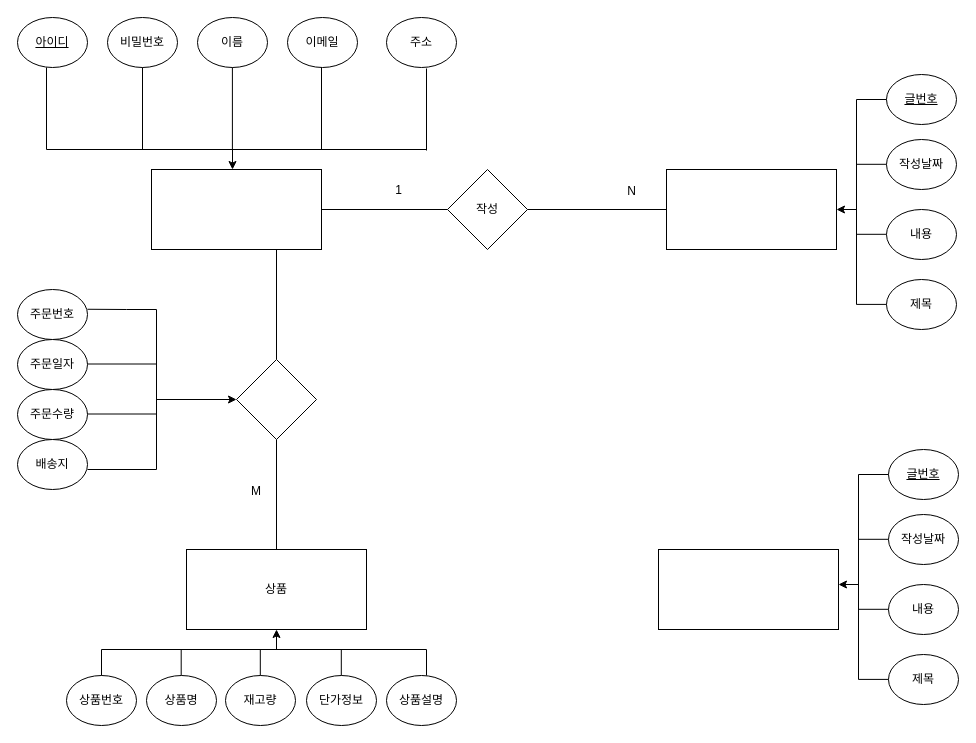
The diagram is 976 pixels wide and 743 high, and some of its shapes have lost their labels. The shapes that lost their labels are listed below. From the top down, each one's centre as x and y in pixels, then its label:
At point (236, 209): "회원".
At point (751, 209): "Q&A 게시판".
At point (276, 399): "주문".
At point (748, 589): "공지사항/이벤트".
